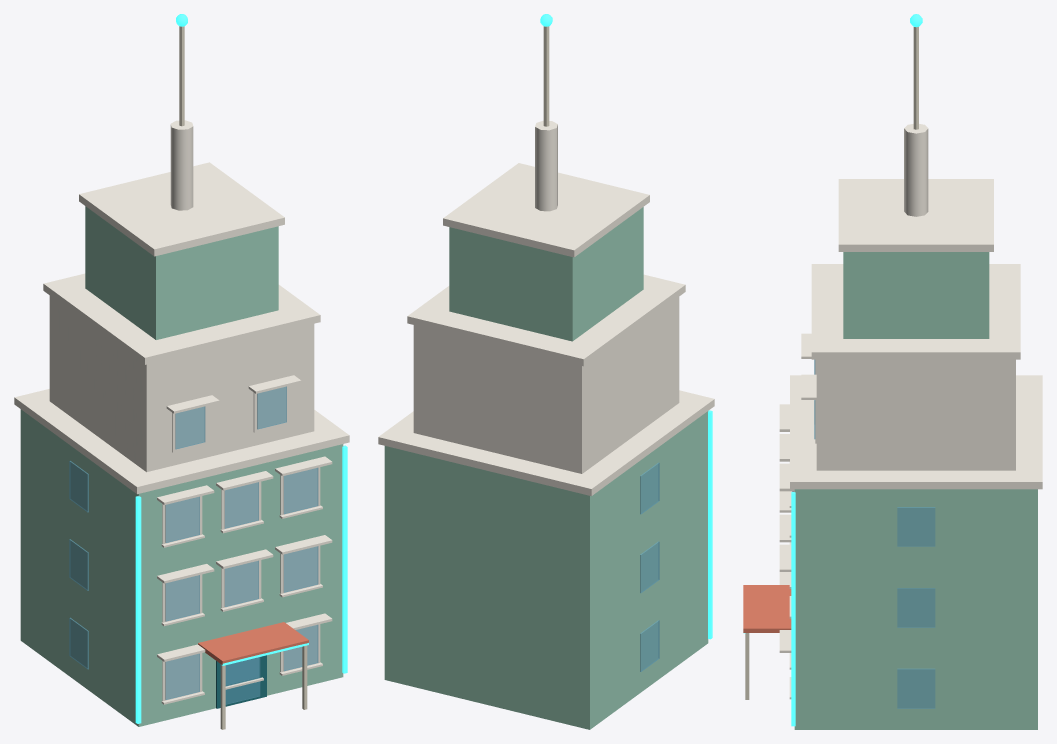
The model's file is deco_tower.glb.
3 views of the same model, side by side, from view 1: azimuth 30°, elevation 25°; view 2: azimuth 150°, elevation 25°; view 3: azimuth 270°, elevation 25° (orthographic). The views are drawn at different scales.
Parts seen in each view (by area): view 1: deco_tower; view 2: deco_tower; view 3: deco_tower.
Boxes of the visible parts, box(x1,y1,x2,y2) form: deco_tower: box(14, 14, 349, 729); deco_tower: box(378, 14, 714, 729); deco_tower: box(743, 14, 1042, 729).
Size of the model in its own units: 9.35 by 27.1 by 11.08.
